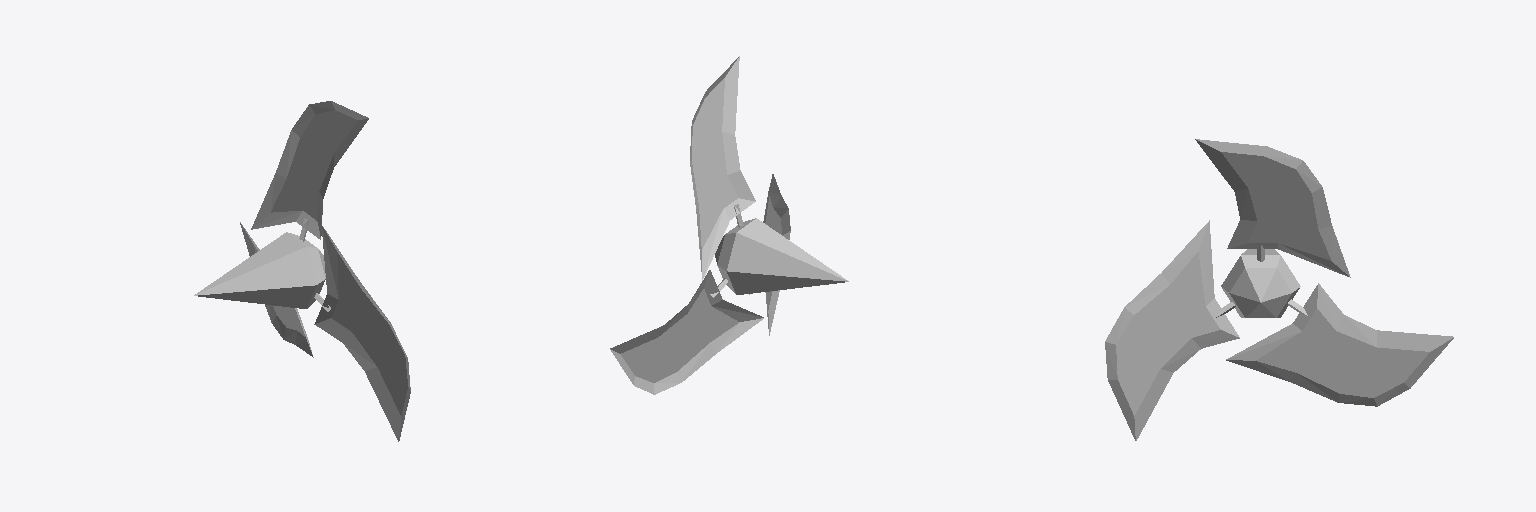
The model's file is stg400_MotFan_g1_07.obj.
3 renders of one model, left to right at view 1: azimuth 30°, elevation 25°; view 2: azimuth 150°, elevation 25°; view 3: azimuth 270°, elevation 25°, orthographic.
Visible parts, largest first — view 1: polygon1, polygon0; view 2: polygon1, polygon0; view 3: polygon1, polygon0.
Part boxes in pixels (x1,y1,x2,y2): polygon1: (240,101,410,441); polygon0: (194,232,325,308); polygon1: (610,56,790,394); polygon0: (715,218,848,294); polygon1: (1105,139,1453,440); polygon0: (1221,249,1300,317).
Size of the model in its own units: 24.02 by 48.06 by 50.29.